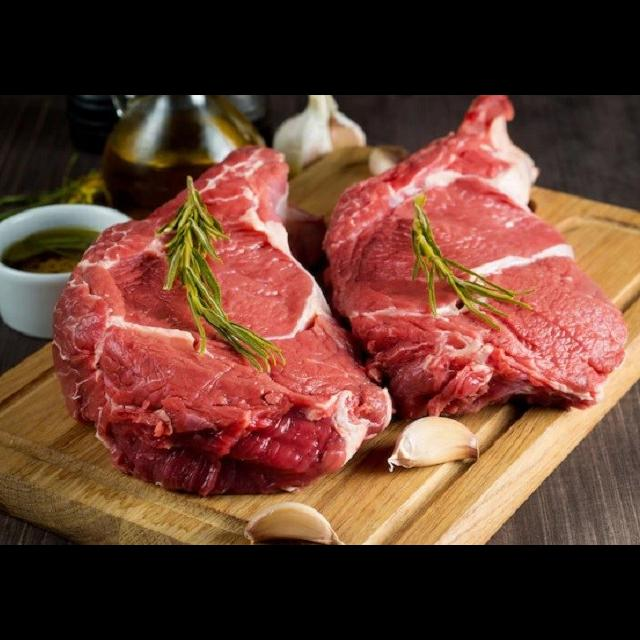beef: (39, 137, 387, 501), (333, 95, 640, 436)
